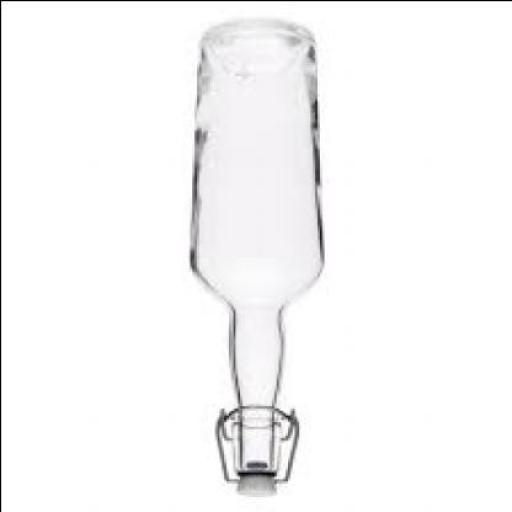glass: (188, 20, 316, 478)
plastic: (234, 480, 273, 496)
